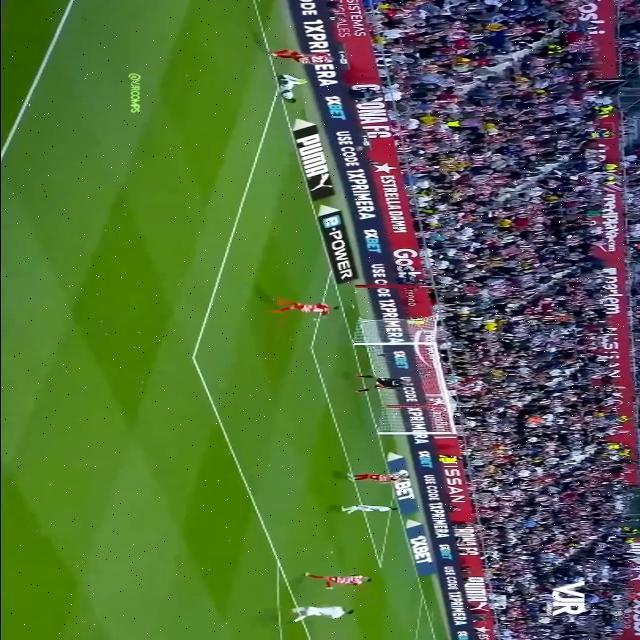goalkeeper: (336, 368, 422, 404)
player: (250, 282, 348, 326), (265, 599, 373, 623), (271, 573, 389, 590), (255, 43, 342, 66), (322, 506, 404, 526), (271, 76, 319, 106), (325, 471, 415, 481)
